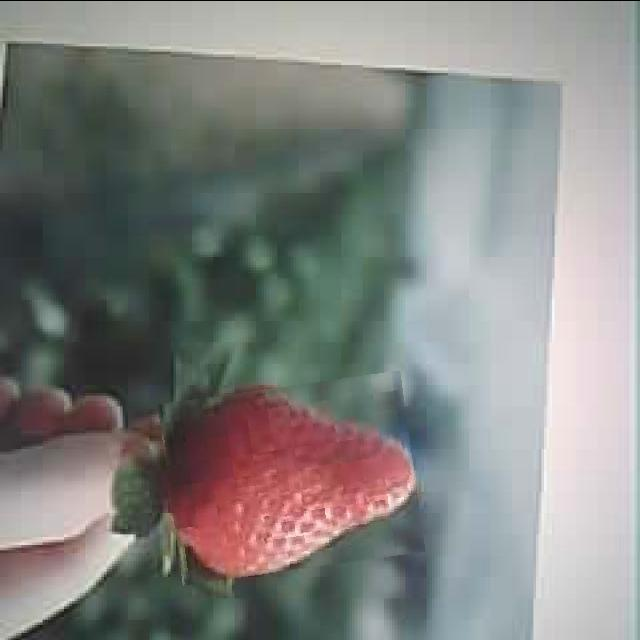strawberry: (163, 378, 420, 577)
